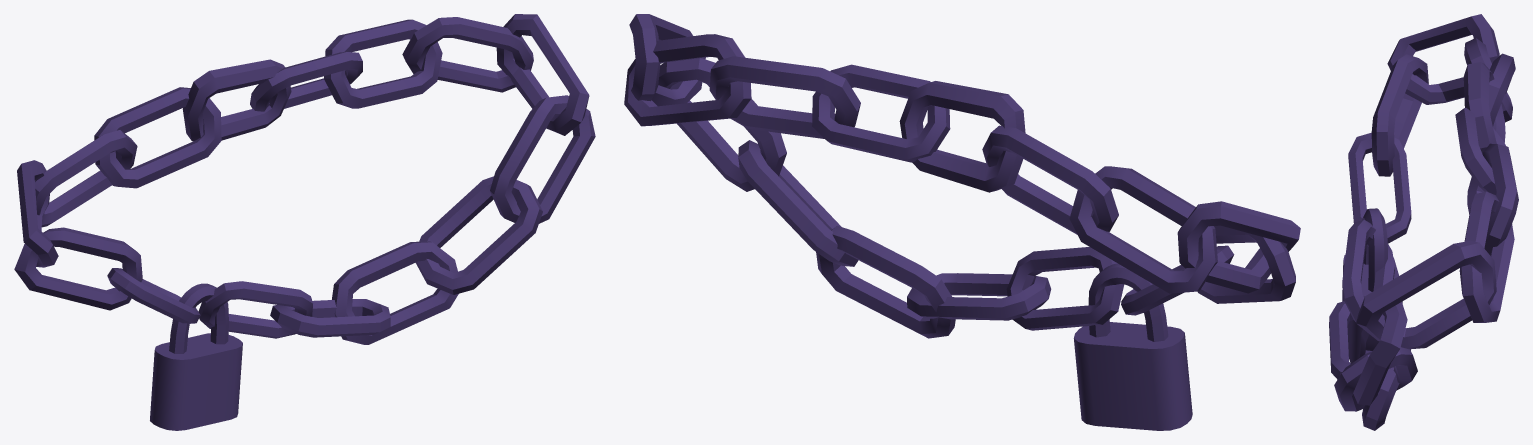
The model's file is SM_Lock_01.fbx.
The picture shows the model from 3 angles, left to right: view 1: azimuth 30°, elevation 25°; view 2: azimuth 150°, elevation 25°; view 3: azimuth 270°, elevation 25°; orthographic projection. The views are drawn at different scales.
Visible parts, largest first — view 1: SM_lock01; view 2: SM_lock01; view 3: SM_lock01.
Part boxes in pixels (x1,y1,x2,y2): SM_lock01: (14,14,595,430); SM_lock01: (624,14,1300,430); SM_lock01: (1329,14,1518,430).
Size of the model in its own units: 1.73 by 0.8746 by 0.4652.
